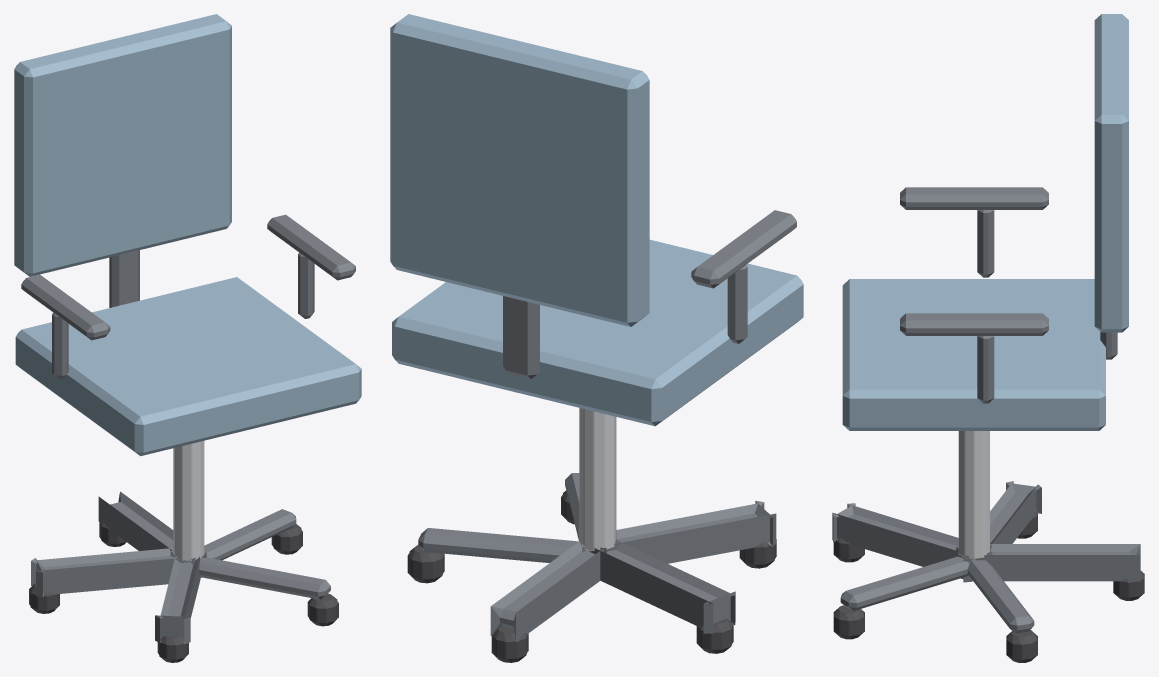
The model's file is OfficeChair.glb.
The picture shows the model from 3 angles, left to right: view 1: azimuth 30°, elevation 25°; view 2: azimuth 150°, elevation 25°; view 3: azimuth 270°, elevation 25°; orthographic projection. The views are drawn at different scales.
Parts seen in each view (by area): view 1: OfficeChair_Body; view 2: OfficeChair_Body; view 3: OfficeChair_Body.
Boxes of the visible parts, bbox=[...] form: OfficeChair_Body: bbox=[14, 14, 361, 662]; OfficeChair_Body: bbox=[390, 14, 803, 662]; OfficeChair_Body: bbox=[832, 14, 1144, 662].
Size of the model in its own units: 0.5706 by 1.02 by 0.5458.
